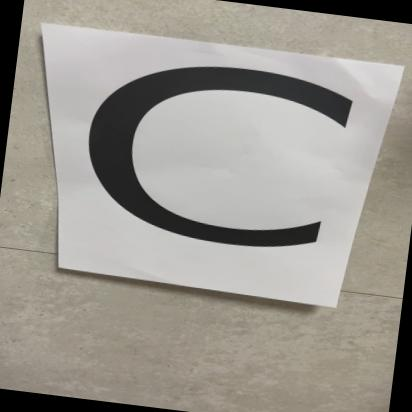seat: (14, 23, 378, 306), (67, 34, 156, 106)
